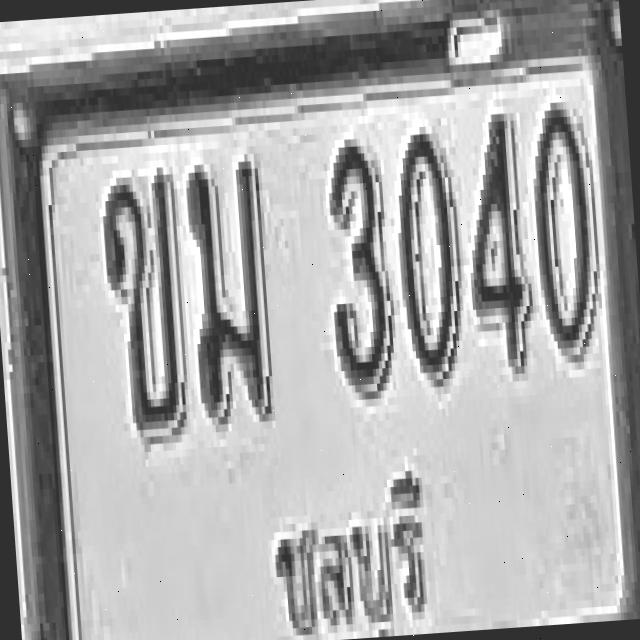0: (391, 128, 465, 384), (526, 100, 597, 357)
11KhorKhai: (98, 166, 189, 438)
3: (322, 137, 396, 393)
4: (460, 109, 532, 372)
42MorMa: (184, 157, 274, 422)
Chonburi: (252, 453, 440, 640)
